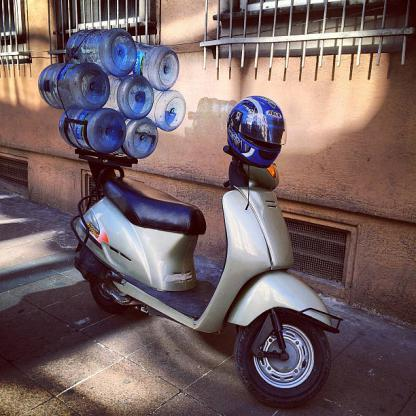Motorcycle: (63, 137, 346, 401)
